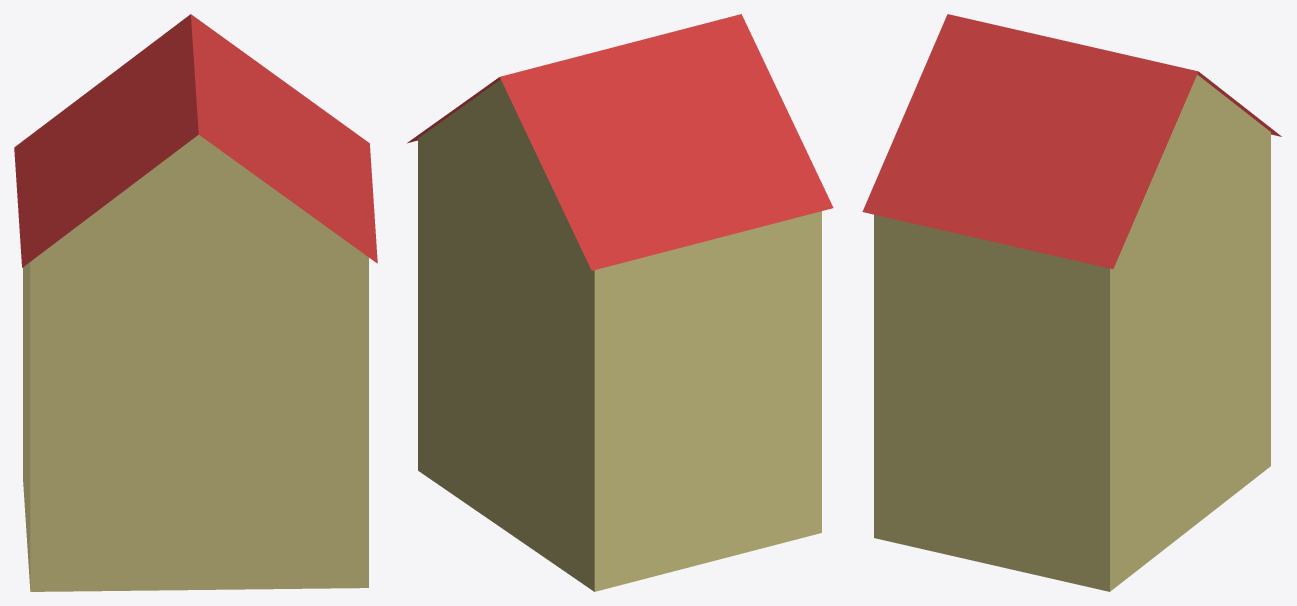
The picture shows the model from 3 angles, left to right: view 1: azimuth 30°, elevation 25°; view 2: azimuth 150°, elevation 25°; view 3: azimuth 270°, elevation 25°; orthographic projection.
Visible parts, largest first — view 1: group_5, group_3, group_4; view 2: group_5, group_3, group_4; view 3: group_5, group_3, group_4.
Boxes of the visible parts, x1=… form: group_5: x1=23, y1=134, x2=368, y2=591; group_3: x1=14, y1=14, x2=377, y2=263; group_4: x1=14, y1=14, x2=297, y2=267; group_5: x1=418, y1=79, x2=821, y2=591; group_3: x1=500, y1=14, x2=821, y2=270; group_4: x1=407, y1=18, x2=833, y2=269; group_5: x1=874, y1=74, x2=1270, y2=591; group_3: x1=862, y1=15, x2=1271, y2=268; group_4: x1=907, y1=14, x2=1281, y2=136.
Bounding box in the file's own units: 13.18 × 12.35 × 14.88.
